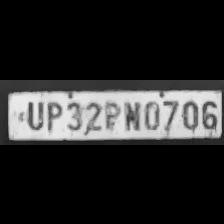0: (178, 96, 200, 130), (140, 96, 160, 130)
2: (82, 97, 102, 131)
3: (62, 97, 82, 131)
6: (199, 97, 219, 129)
7: (158, 96, 178, 130)
N: (120, 97, 140, 131)
P: (42, 98, 64, 130), (101, 98, 119, 132)
U: (22, 97, 44, 129)
